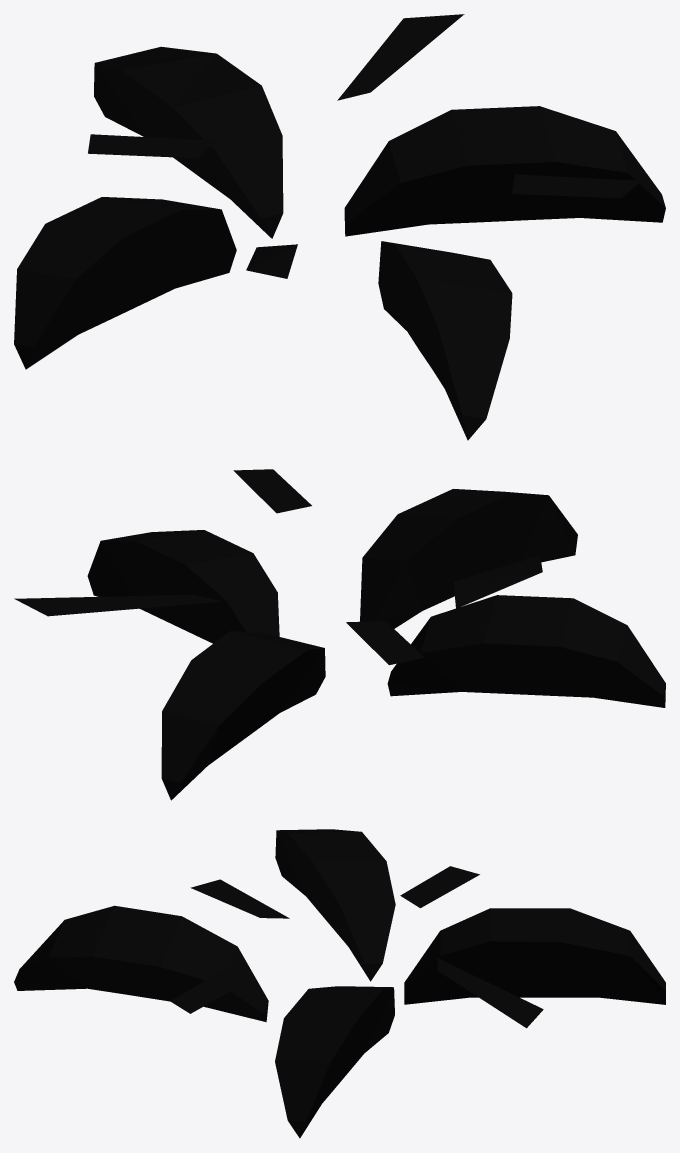
The model's file is impact_08.glb.
3 views of the same model, one above another, from view 1: azimuth 30°, elevation 25°; view 2: azimuth 150°, elevation 25°; view 3: azimuth 270°, elevation 25° (orthographic). The views are drawn at different scales.
Size of the model in its own units: 3.58 by 0.649 by 3.94.
Materials: 1 (1 with a texture image).
